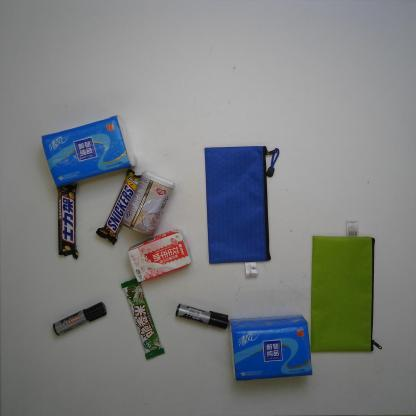Canned Food: (121, 170, 176, 236)
Chocolate: (120, 278, 165, 361), (95, 168, 142, 246), (55, 181, 80, 260)
Milk: (127, 228, 192, 283)
Stationery: (308, 219, 384, 358), (203, 145, 282, 278), (52, 300, 107, 336), (173, 302, 230, 330)
Tissue: (40, 115, 139, 189), (228, 314, 314, 382)
